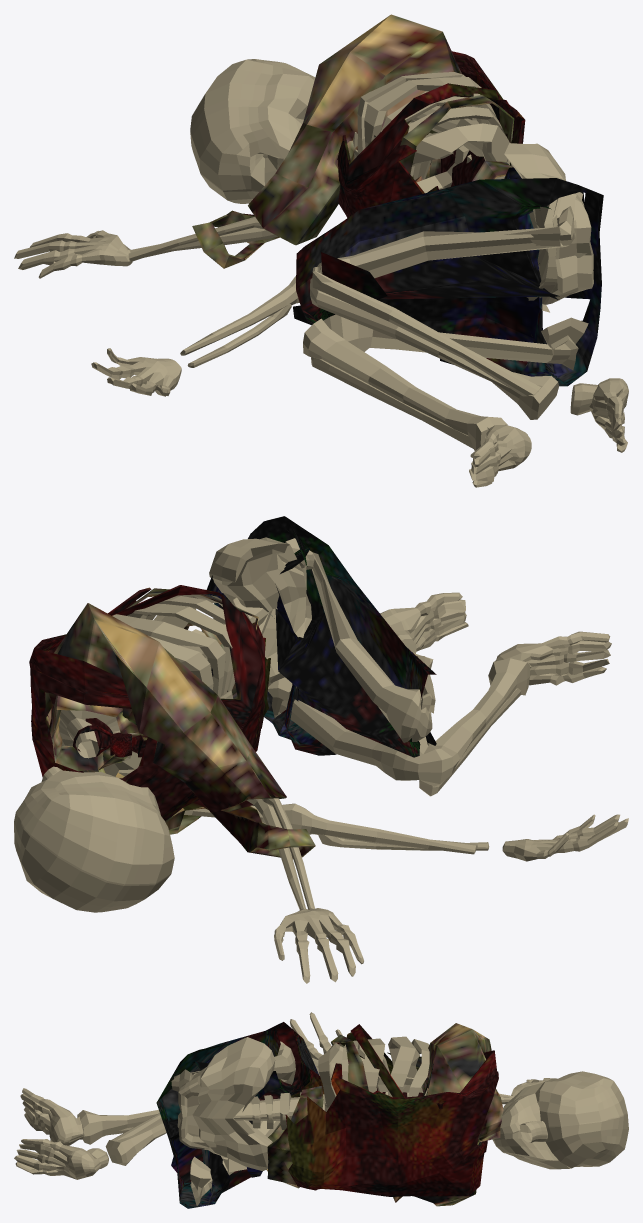
File: Rogers_skeleton.fbx
3 renders of one model, top to bottom at view 1: azimuth 30°, elevation 25°; view 2: azimuth 150°, elevation 25°; view 3: azimuth 270°, elevation 25°, orthographic. The views are drawn at different scales.
Parts seen in each view (by area): view 1: vest.002; view 2: vest.002; view 3: vest.002.
Part boxes in pixels (left/top/right/bottom): vest.002: left=14, top=14, right=628, bottom=487; vest.002: left=14, top=516, right=628, bottom=983; vest.002: left=14, top=1012, right=628, bottom=1208.
Bounding box in the file's own units: 77 × 35.65 × 111.
